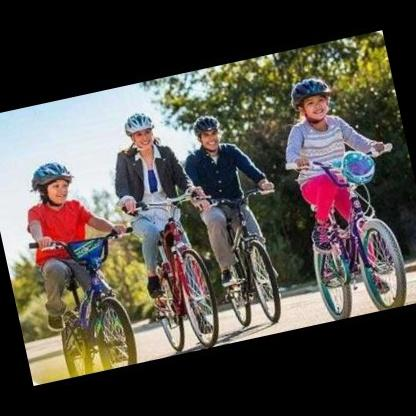Bicycle: (284, 140, 414, 320), (24, 221, 147, 382), (119, 182, 227, 358), (197, 173, 298, 339)
